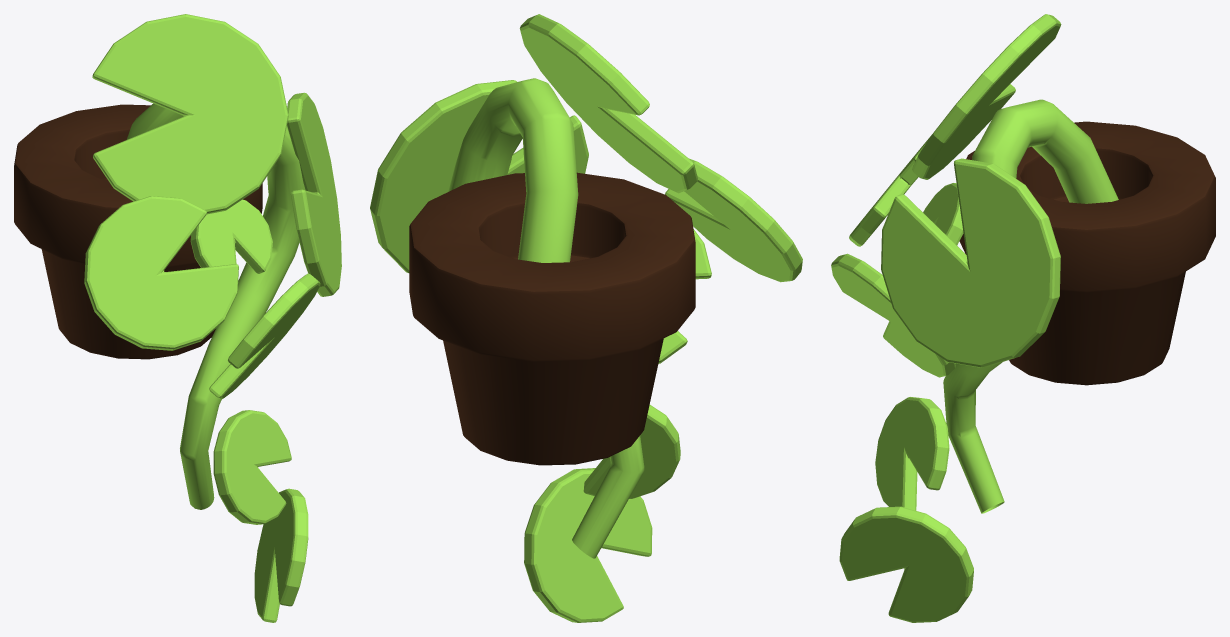
The model's file is Plante.001.fbx.
3 views of the same model, side by side, from view 1: azimuth 30°, elevation 25°; view 2: azimuth 150°, elevation 25°; view 3: azimuth 270°, elevation 25° (orthographic). The views are drawn at different scales.
Parts seen in each view (by area): view 1: Plante.001; view 2: Plante.001; view 3: Plante.001.
Part boxes in pixels (x1,y1,x2,y2): Plante.001: (14, 14, 341, 622); Plante.001: (370, 14, 802, 622); Plante.001: (831, 14, 1215, 622).
Bounding box in the file's own units: 111 × 197 × 117.
